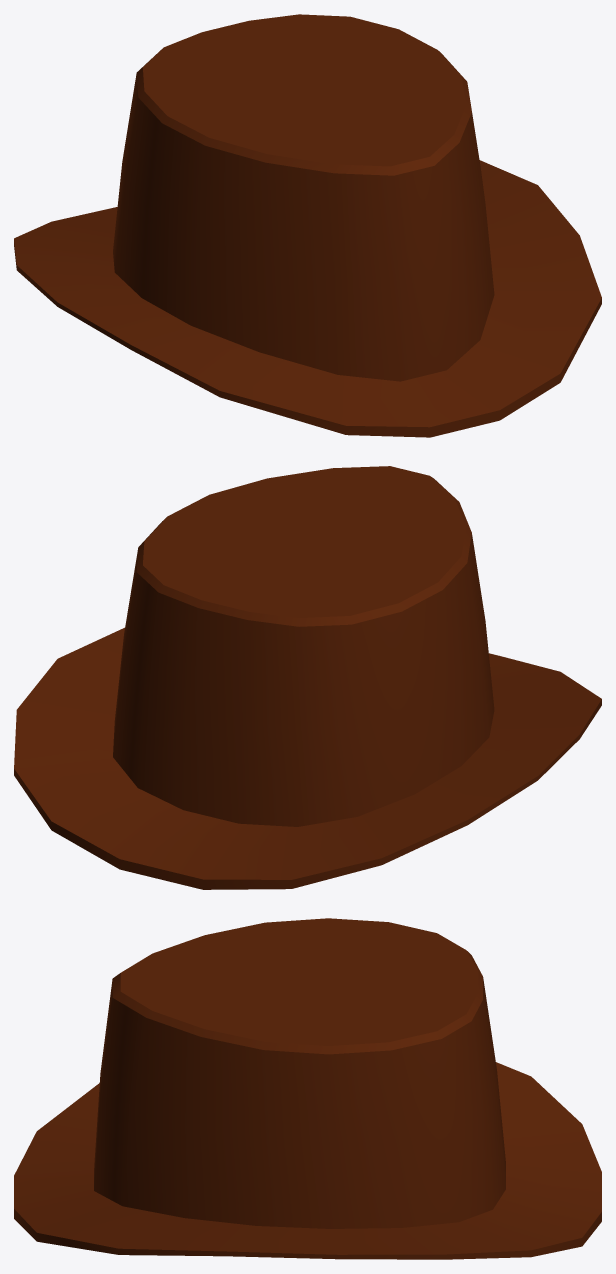
The model's file is 3D_Cowboy_Hat.FBX.
3 views of the same model, one above another, from view 1: azimuth 30°, elevation 25°; view 2: azimuth 150°, elevation 25°; view 3: azimuth 270°, elevation 25° (orthographic). The views are drawn at different scales.
Parts seen in each view (by area): view 1: 3d_cowboy_hat; view 2: 3d_cowboy_hat; view 3: 3d_cowboy_hat.
Part boxes in pixels (x1,y1,x2,y2): 3d_cowboy_hat: (14, 14, 601, 437); 3d_cowboy_hat: (14, 466, 601, 889); 3d_cowboy_hat: (14, 918, 601, 1259).
Bounding box in the file's own units: 41.79 × 18.88 × 45.73.
